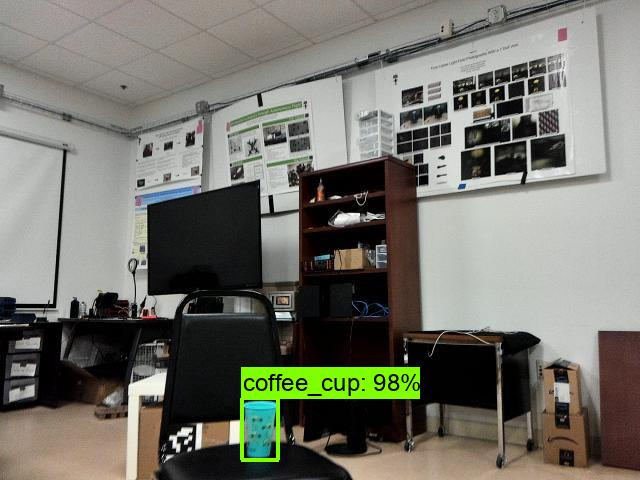coffee_cup: (242, 398, 279, 460)
